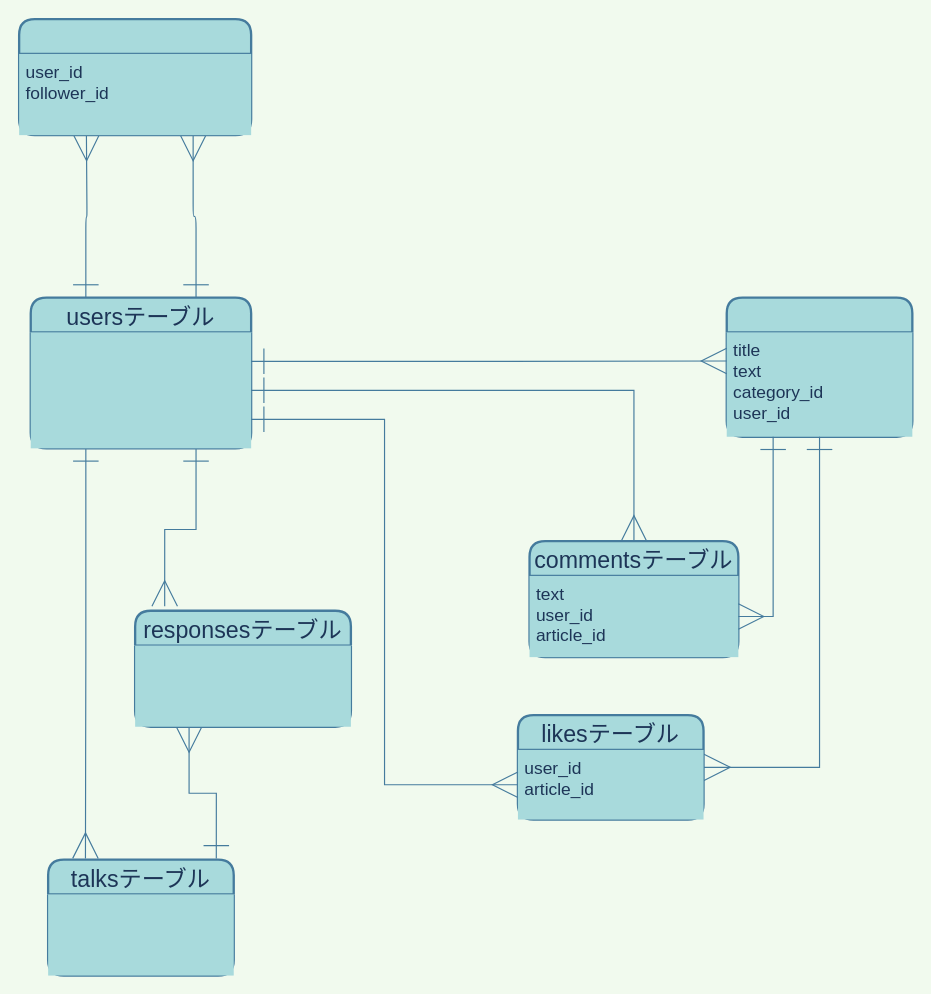
Some shapes in this 931 by 994 pixel diagram are drawn without their labels. The shapes that lost their labels are listed below. From the top down, each one's box as (x1, y1, x2, y2) in pixels, then its label:
(17, 17, 252, 136): relationshipsテーブル
(725, 296, 913, 437): articlesテーブル
(30, 332, 251, 448): nickname email password
(135, 645, 350, 726): text user_id talk_id
(48, 894, 233, 975): title text user_id
